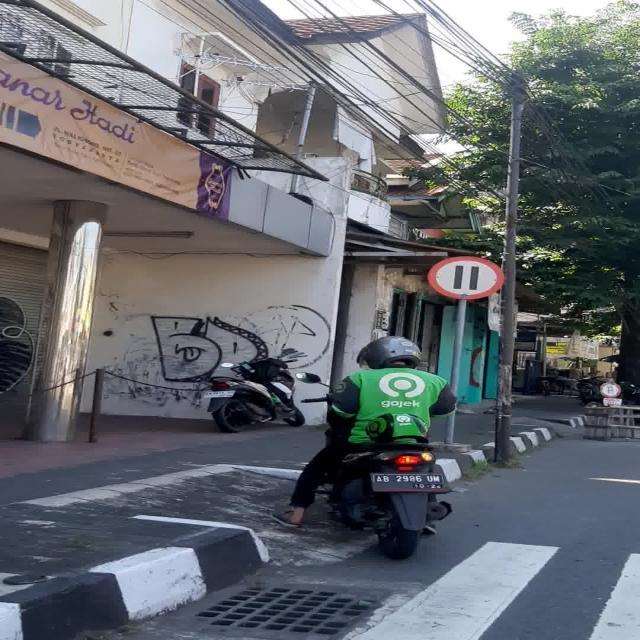Larangan Muatan - 10 ton: (428, 256, 503, 299)
